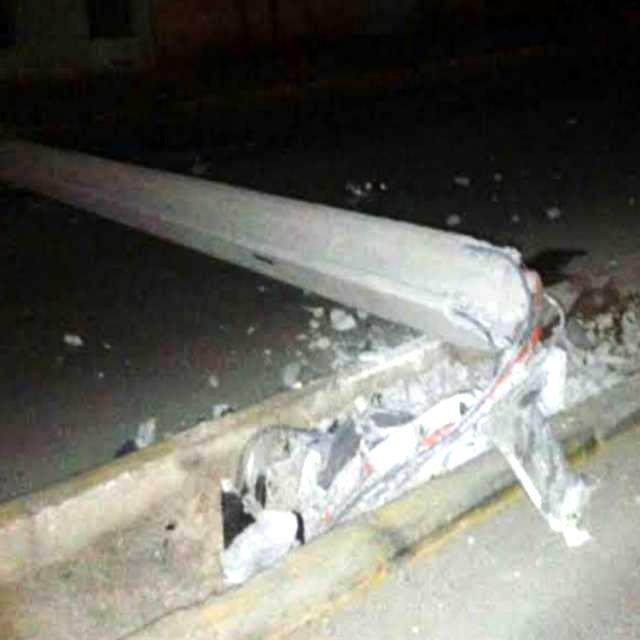Broken Pole: (1, 134, 606, 579)
